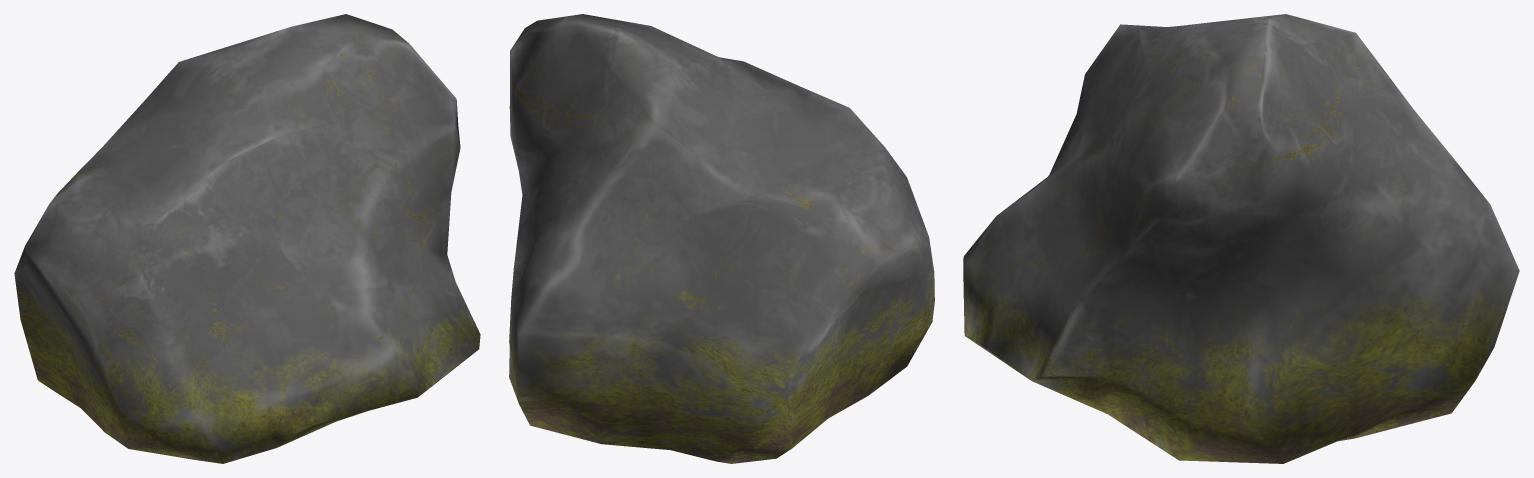
Rendered from ROK0110040.fbx.
3 views of the same model, side by side, from view 1: azimuth 30°, elevation 25°; view 2: azimuth 150°, elevation 25°; view 3: azimuth 270°, elevation 25° (orthographic). The views are drawn at different scales.
Visible parts, largest first — view 1: smROK0110040; view 2: smROK0110040; view 3: smROK0110040.
Part boxes in pixels (x1,y1,x2,y2): smROK0110040: (14,14,480,463); smROK0110040: (509,14,934,463); smROK0110040: (963,14,1519,463).
Bounding box in the file's own units: 207 × 177 × 215.
1 material, 1 textured.
